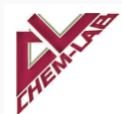ChemLab: (14, 11, 119, 114)
